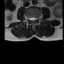CCS_normal: (31, 14, 33, 24)
LFS_normal: (36, 15, 38, 21)
LLS_normal: (33, 15, 36, 22)
RFS_normal: (27, 15, 29, 21)
RLS_normal: (29, 15, 31, 22)
